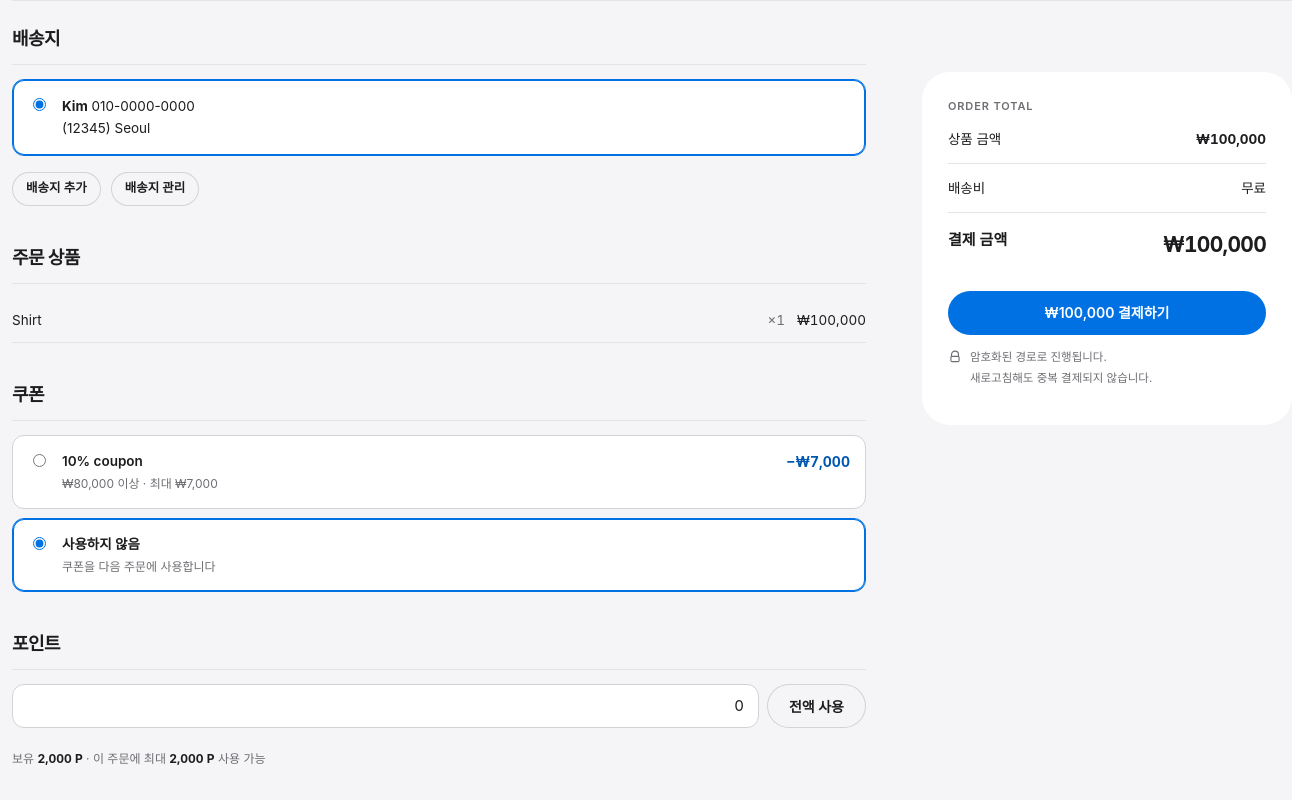
Test: CheckoutForm › lets a shopper return to no coupon and apply all usable points
This screenshot has width=1292, height=800.
What coordinates should you click on to do the following:
click the radio button labelled "10% coupon ₩80,000 이상 · 최대 ₩7,000 −₩7,000"
I would click on:
 (40, 460)
Its box is [33, 454, 46, 467].
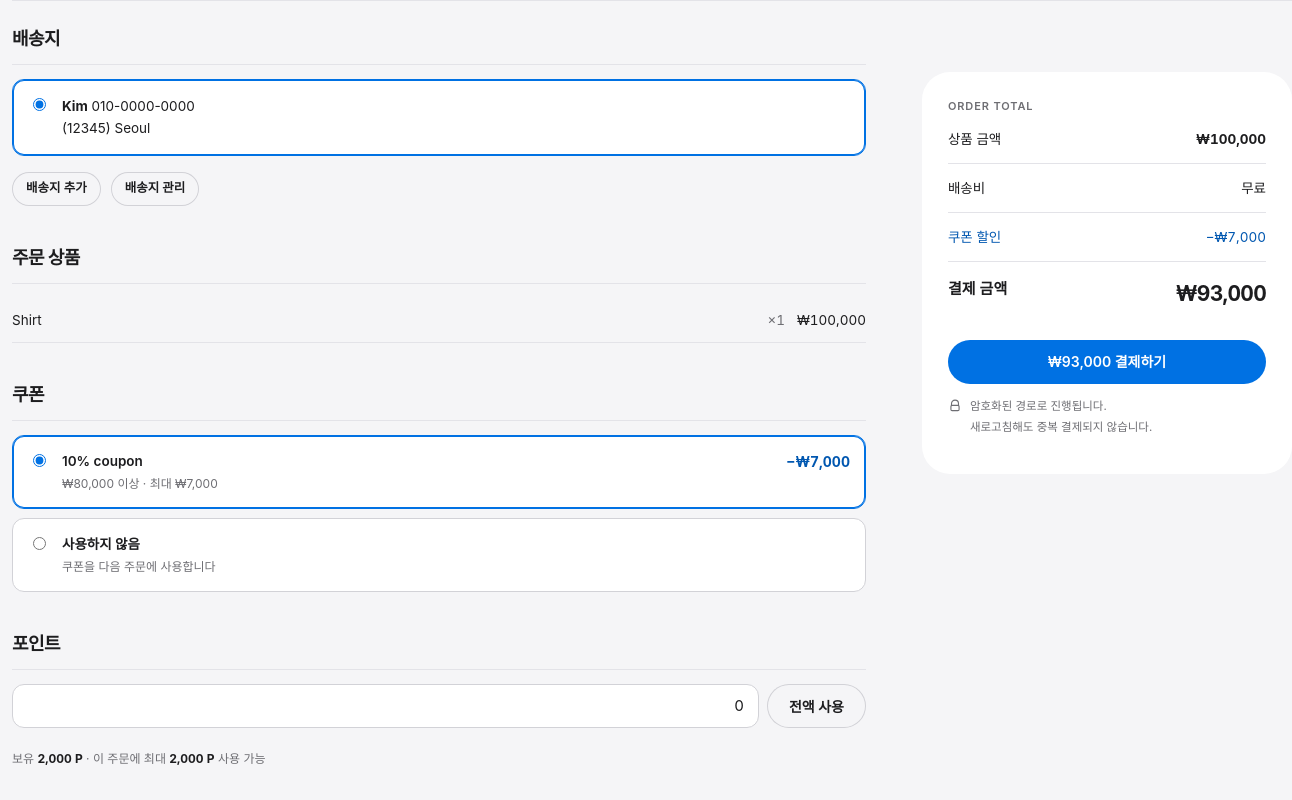
What coordinates should you click on to do the following:
click the radio button labelled "사용하지 않음 쿠폰을 다음 주문에 사용합니다"
I would click on:
 (40, 544)
Its box is [33, 537, 46, 550].
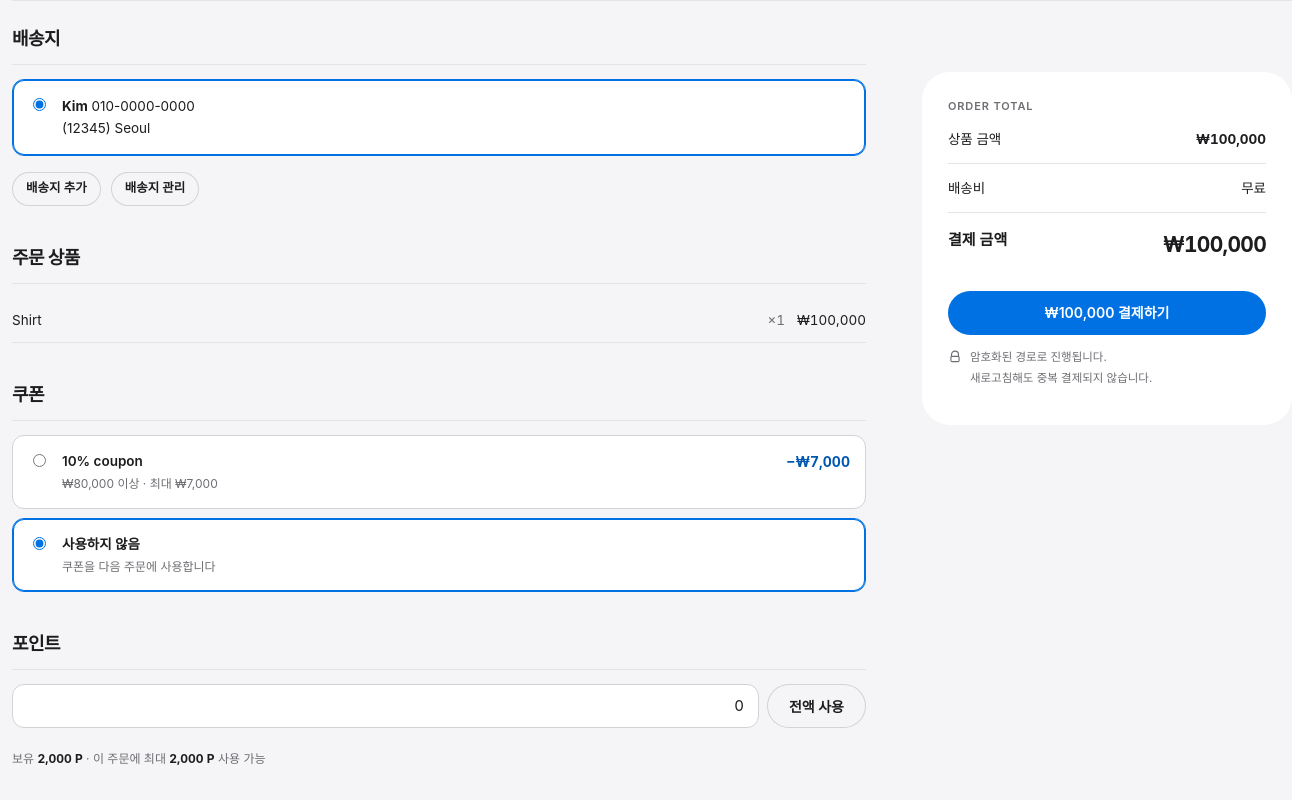
What coordinates should you click on to do the following:
click the button "전액 사용"
I would click on:
 (816, 706)
Its box is [767, 684, 866, 728].
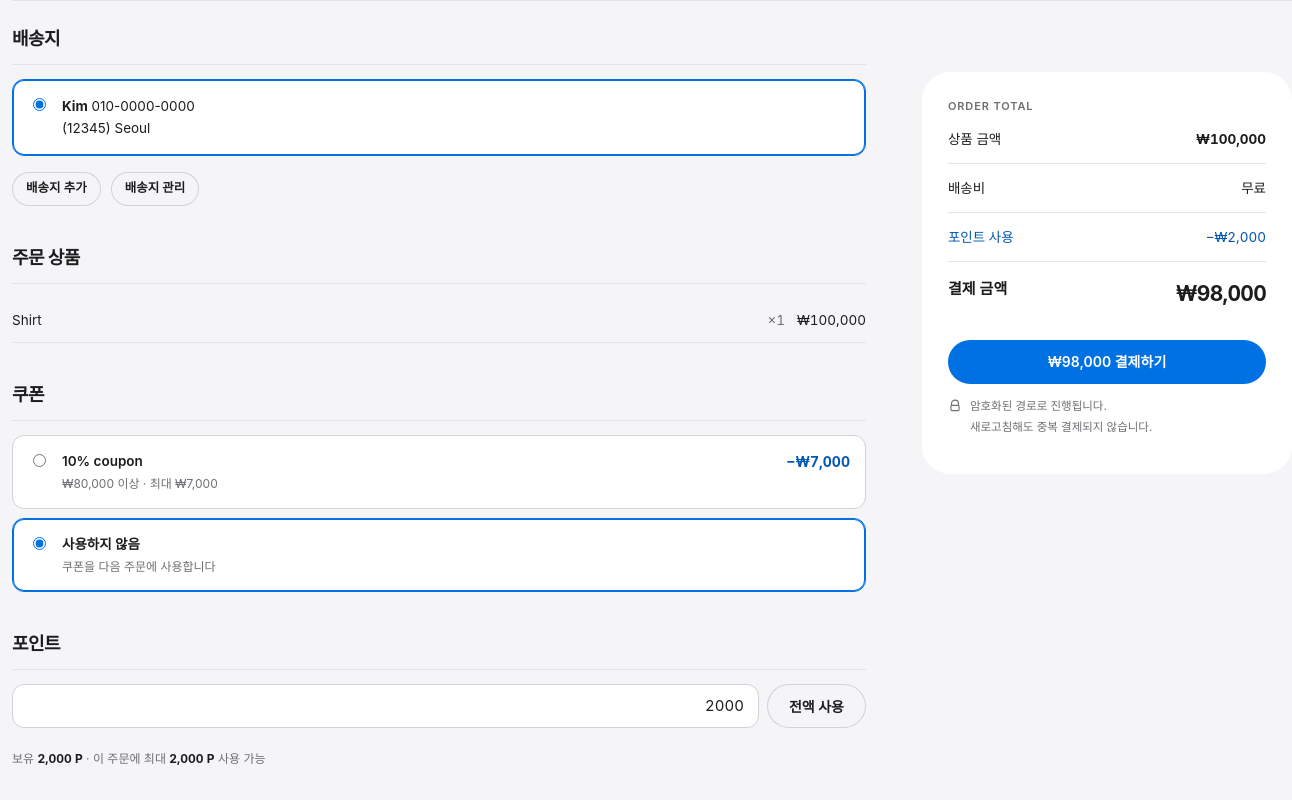
Expected: the text "보유 2,000 P · 이 주문에 최대 2,000 P 사용 가능" is shown, [12, 751, 266, 766]
Expected: the field named "사용할 포인트" holds "2000", [12, 684, 759, 728]
